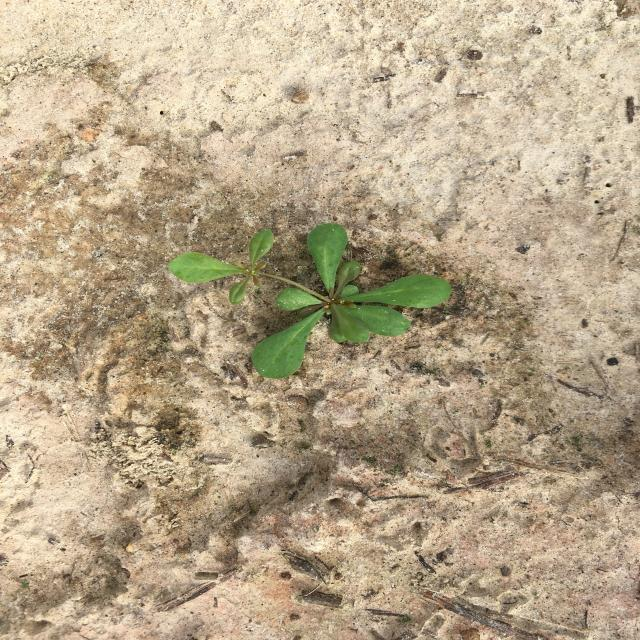Carpetweed: (168, 223, 452, 379)
